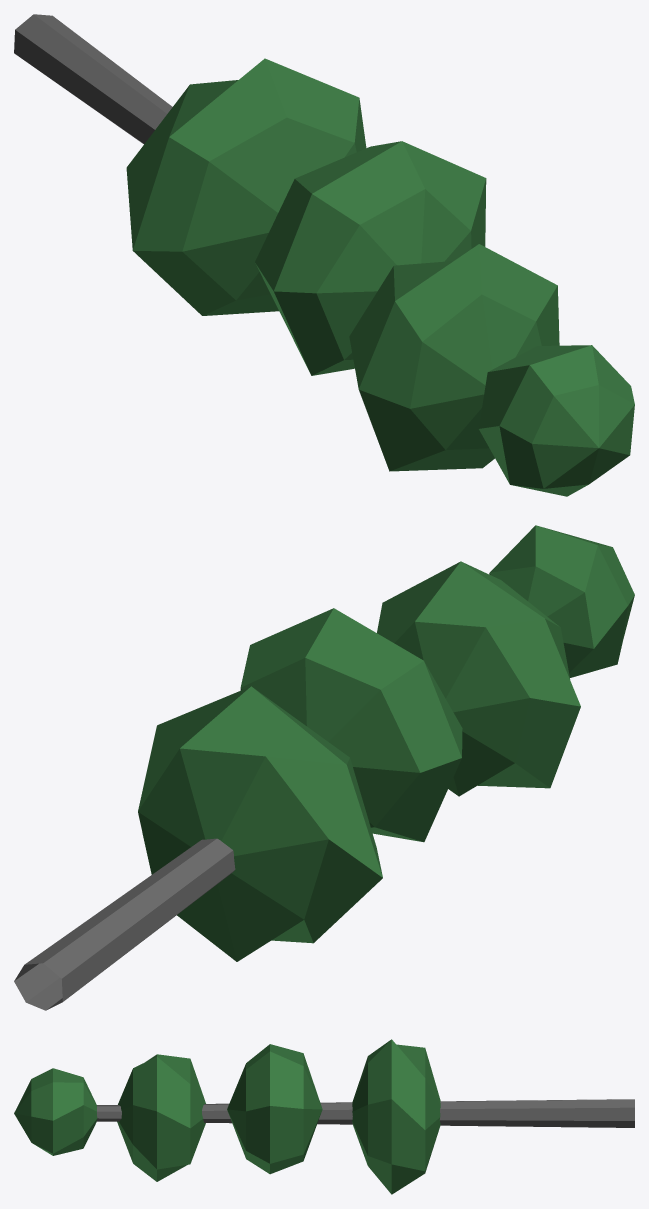
File: growth_0.glb
The picture shows the model from 3 angles, top to bottom: view 1: azimuth 30°, elevation 25°; view 2: azimuth 150°, elevation 25°; view 3: azimuth 270°, elevation 25°; orthographic projection. The views are drawn at different scales.
Visible parts, largest first — view 1: tree_06_growth_0; view 2: tree_06_growth_0; view 3: tree_06_growth_0.
Boxes of the visible parts, <box> form: tree_06_growth_0: <box>14,14,634,496</box>; tree_06_growth_0: <box>14,525,634,1010</box>; tree_06_growth_0: <box>14,1039,634,1194</box>.
Size of the model in its own units: 6.14 by 6.29 by 24.52.
